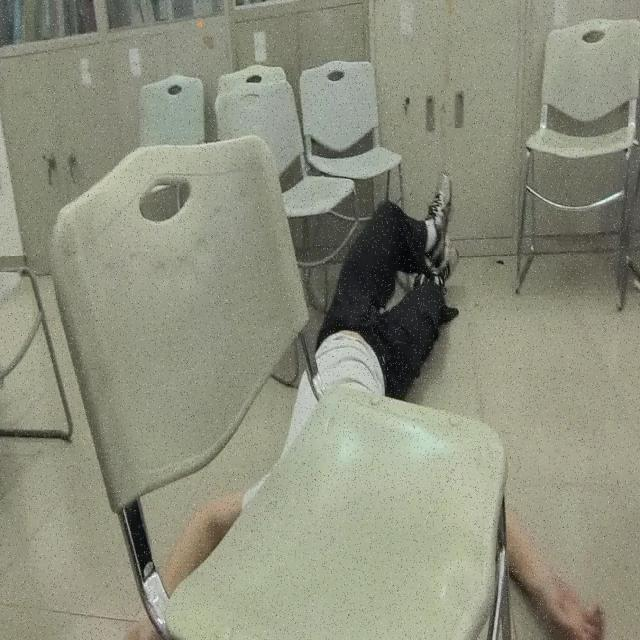fall: (127, 166, 604, 640)
